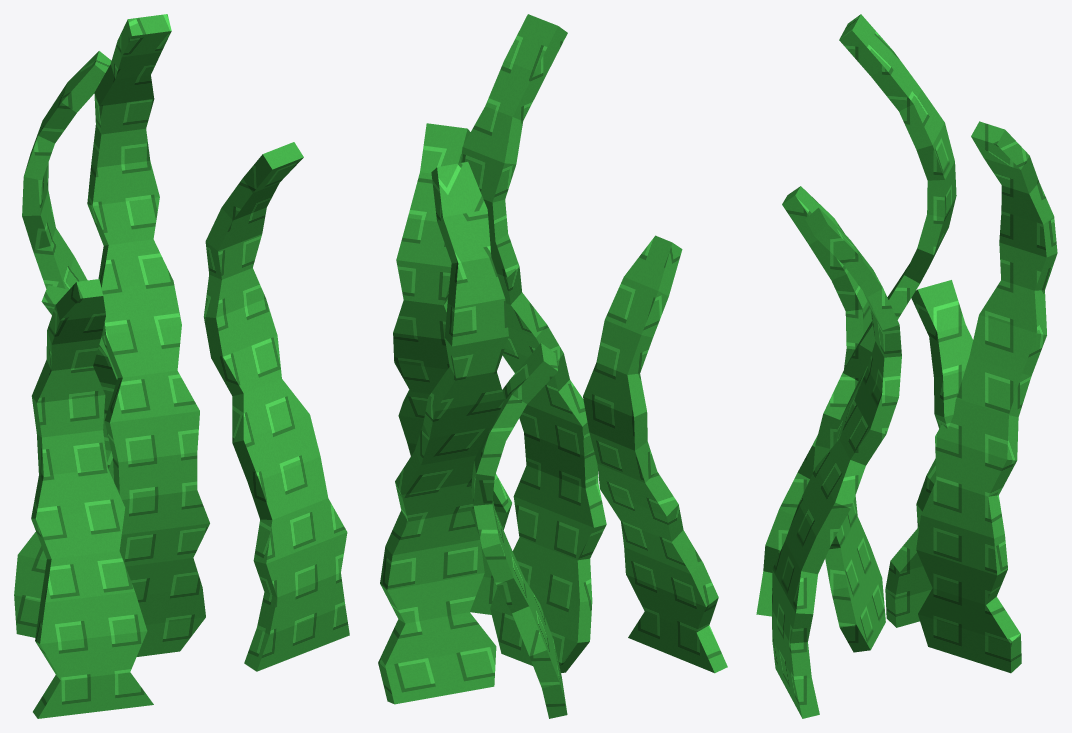
File: Seaweed.glb
3 views of the same model, side by side, from view 1: azimuth 30°, elevation 25°; view 2: azimuth 150°, elevation 25°; view 3: azimuth 270°, elevation 25° (orthographic). The views are drawn at different scales.
Parts seen in each view (by area): view 1: Seaweed_Rock; view 2: Seaweed_Rock; view 3: Seaweed_Rock.
Part boxes in pixels (bbox=[...]): Seaweed_Rock: bbox=[14, 14, 349, 718]; Seaweed_Rock: bbox=[378, 14, 727, 718]; Seaweed_Rock: bbox=[756, 14, 1057, 718].
Size of the model in its own units: 6.9 by 13.16 by 5.83.
1 material, 1 textured.
